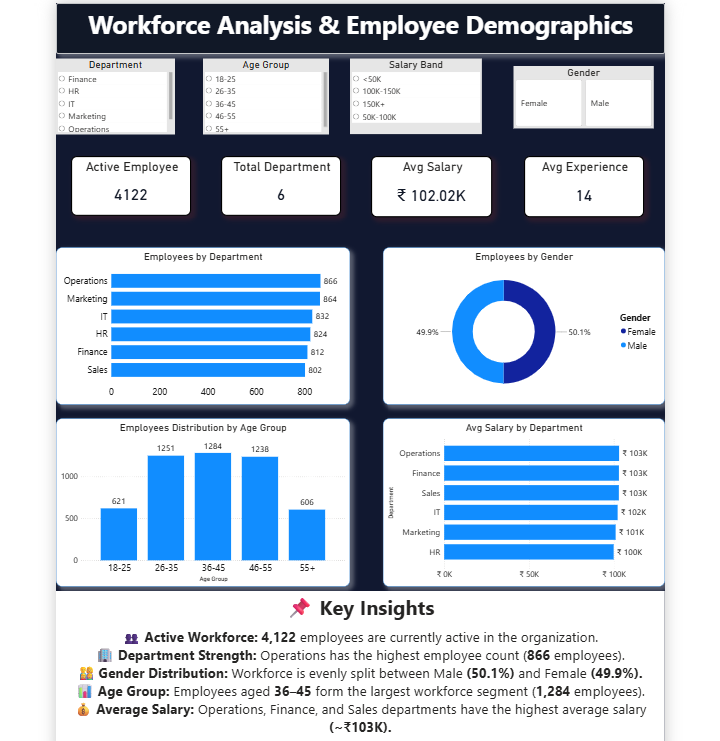

Layout of this report page (visuals, bound fields, positions):
{"tool":"powerbi","page":{"name":"Page 3","canvas":[1400,1350],"ordinal":2},"visuals":[{"type":"card","title":"Active Employee","fields":{"Values":["HR_Data.Active Employee"]},"box":[60,323.3,286.7,143.3],"z":0},{"type":"card","title":"Total Department","fields":{"Values":["HR_Data.total departments"]},"box":[390,323.3,286.7,143.3],"z":1000},{"type":"card","title":"Avg Salary","fields":{"Values":["HR_Data.Avg Salary"]},"box":[730,326.7,286.7,143.3],"z":2000},{"type":"card","title":"Avg Experience","fields":{"Values":["HR_Data.Avg Experience"]},"box":[1060,326.7,286.7,143.3],"z":3000},{"type":"textbox","box":[0,0,1400,116.7],"z":4000},{"type":"clusteredBarChart","title":"Employees by Department","fields":{"Category":["HR_Data.Department"],"Y":["HR_Data.total emp"]},"box":[0,523.3,676.7,373.3],"z":5000},{"type":"donutChart","title":"Employees by Gender","fields":{"Category":["HR_Data.Gender"],"Y":["HR_Data.total emp"]},"box":[730,523.3,670,373.3],"z":6000},{"type":"clusteredColumnChart","title":"Employees Distribution by Age Group","fields":{"Category":["HR_Data.Age Group"],"Y":["HR_Data.total emp"]},"box":[0,913.3,676.7,436.7],"z":7000},{"type":"barChart","fields":{"Category":["HR_Data.Department"],"Y":["HR_Data.Avg Salary"]},"box":[730,913.3,670,436.7],"z":8000},{"type":"listSlicer","fields":{"Values":["HR_Data.Department"]},"box":[0,116.7,283.3,180],"z":9000},{"type":"listSlicer","fields":{"Values":["HR_Data.Age Group"]},"box":[346.7,116.7,300,180],"z":10000},{"type":"listSlicer","fields":{"Values":["HR_Data.Salary Band"]},"box":[700,116.7,313.3,180],"z":11000},{"type":"advancedSlicerVisual","fields":{"Values":["HR_Data.Gender"]},"box":[1036.7,130,333.3,150],"z":12000}]}

Visuals, with their boxes on the page's 1400x1350 design canvas (x1, y1, x2, y2). These are canvas units, not pixel positions in the 720x741 screenshot, which may show the page scaled, cropped or inside an application window:
"Active Employee" card: (60,323,347,467)
"Total Department" card: (390,323,677,467)
"Avg Salary" card: (730,327,1017,470)
"Avg Experience" card: (1060,327,1347,470)
textbox: (0,0,1400,117)
"Employees by Department" clusteredBarChart: (0,523,677,897)
"Employees by Gender" donutChart: (730,523,1400,897)
"Employees Distribution by Age Group" clusteredColumnChart: (0,913,677,1350)
barChart - HR_Data.Department x HR_Data.Avg Salary: (730,913,1400,1350)
listSlicer - HR_Data.Department: (0,117,283,297)
listSlicer - HR_Data.Age Group: (347,117,647,297)
listSlicer - HR_Data.Salary Band: (700,117,1013,297)
advancedSlicerVisual - HR_Data.Gender: (1037,130,1370,280)
